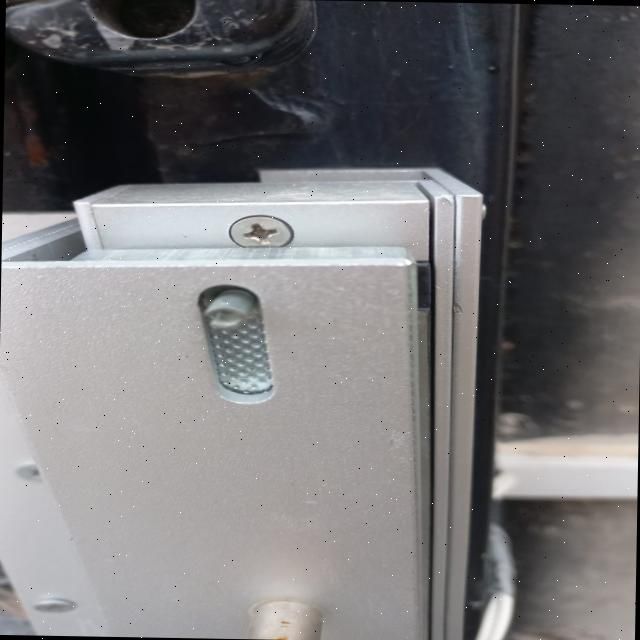Phillips: (227, 216, 300, 256)
